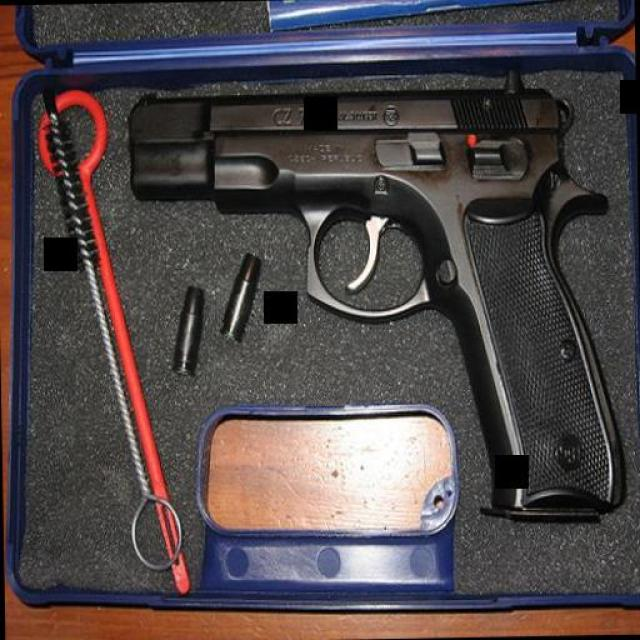gun: (124, 80, 626, 526)
